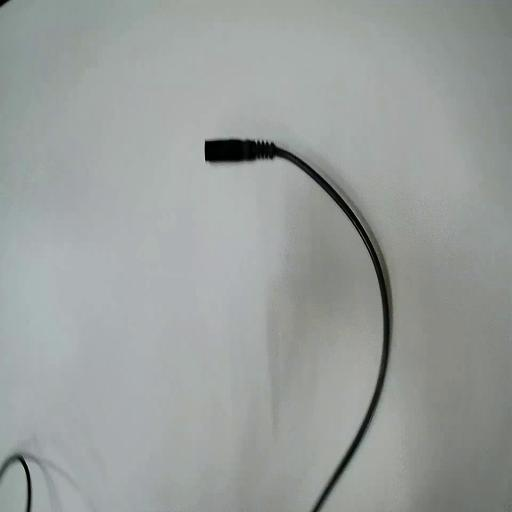wire: (205, 140, 389, 511)
